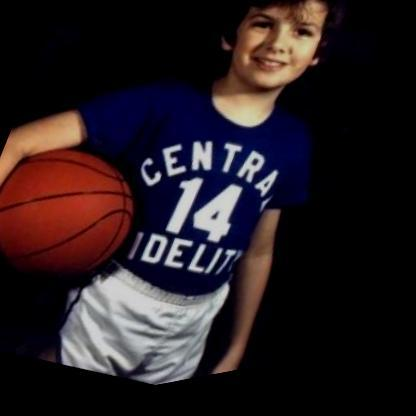basketball: (0, 112, 164, 325)
